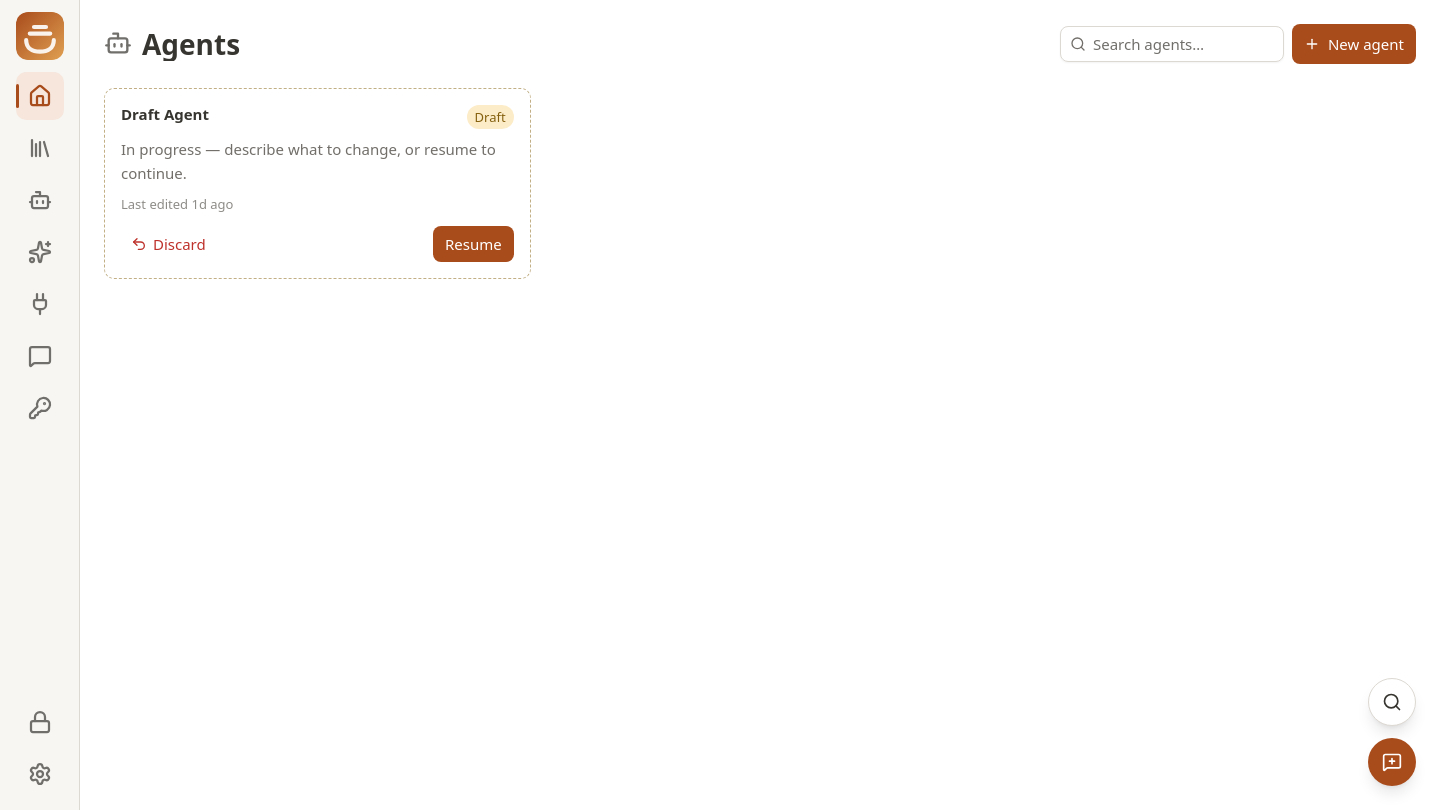
draft card shows Resume link and Discard posts dismiss + refreshes the list
The width and height of the screenshot is (1440, 810).
Expected: the heading "Draft Agent" is shown, [121,105,209,124]
Expected: the text "Draft" is shown, [467,105,514,129]
Click the button "Discard": (168, 244) [121,226,216,262]
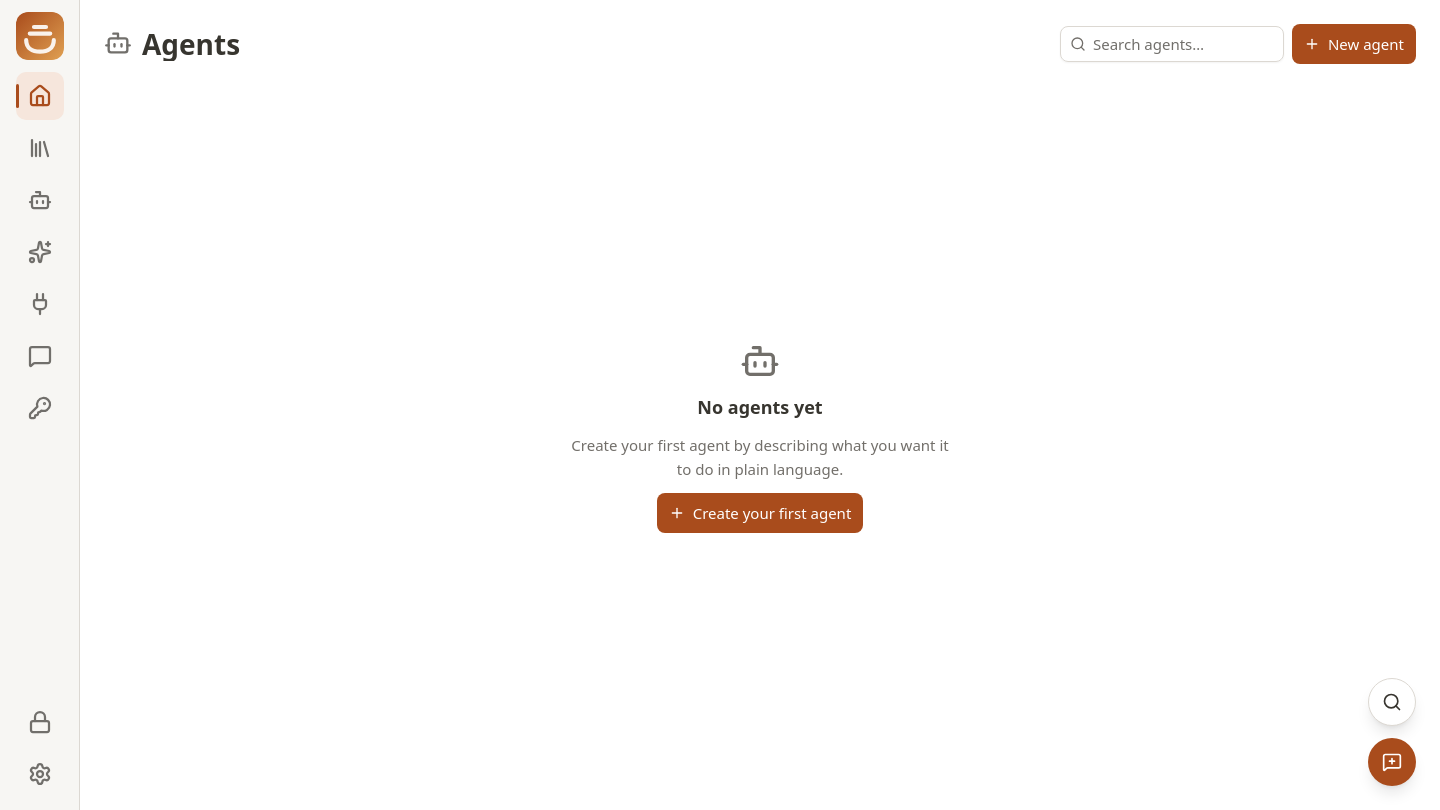
Result: the heading "Draft Agent" is gone
